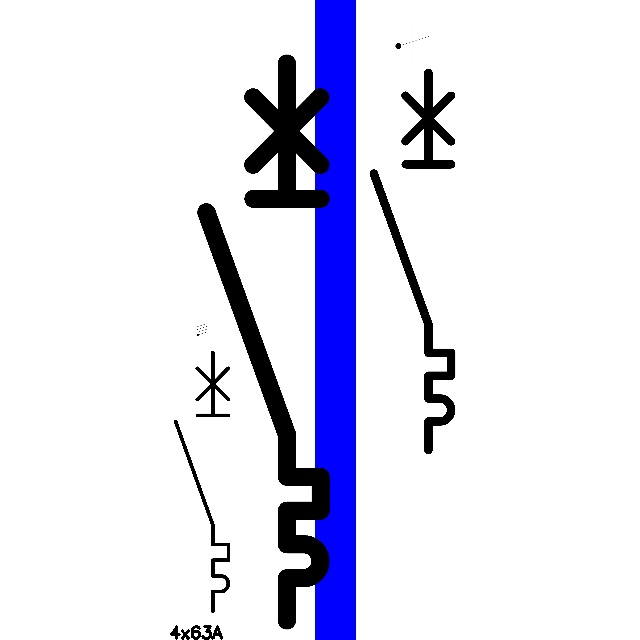interruptor_termomagnetico: (192, 49, 335, 635), (364, 62, 461, 459), (169, 345, 235, 617)
